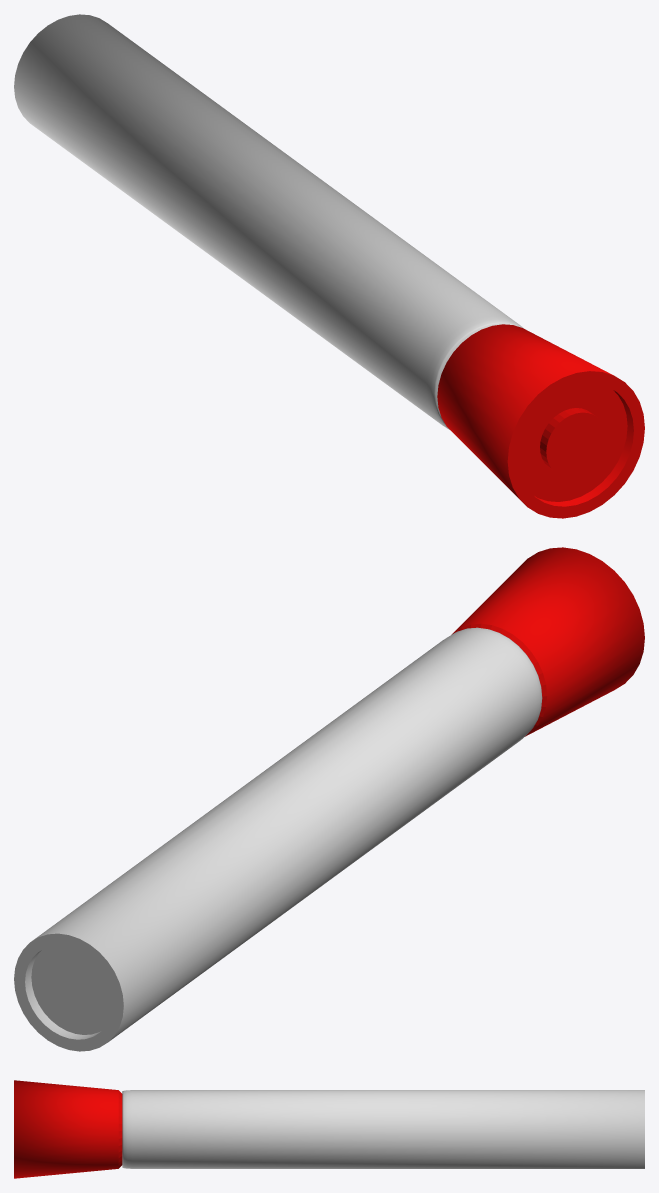
File: Marker.fbx
3 renders of one model, top to bottom at view 1: azimuth 30°, elevation 25°; view 2: azimuth 150°, elevation 25°; view 3: azimuth 270°, elevation 25°, orthographic. The views are drawn at different scales.
Parts seen in each view (by area): view 1: Cylinder.003; view 2: Cylinder.003; view 3: Cylinder.003.
Boxes of the visible parts, x1,y1,x2,y2 form: Cylinder.003: [14, 14, 644, 518]; Cylinder.003: [14, 547, 644, 1051]; Cylinder.003: [14, 1080, 644, 1178].
Bounding box in the file's own units: 2.39 × 2.39 × 15.27.
